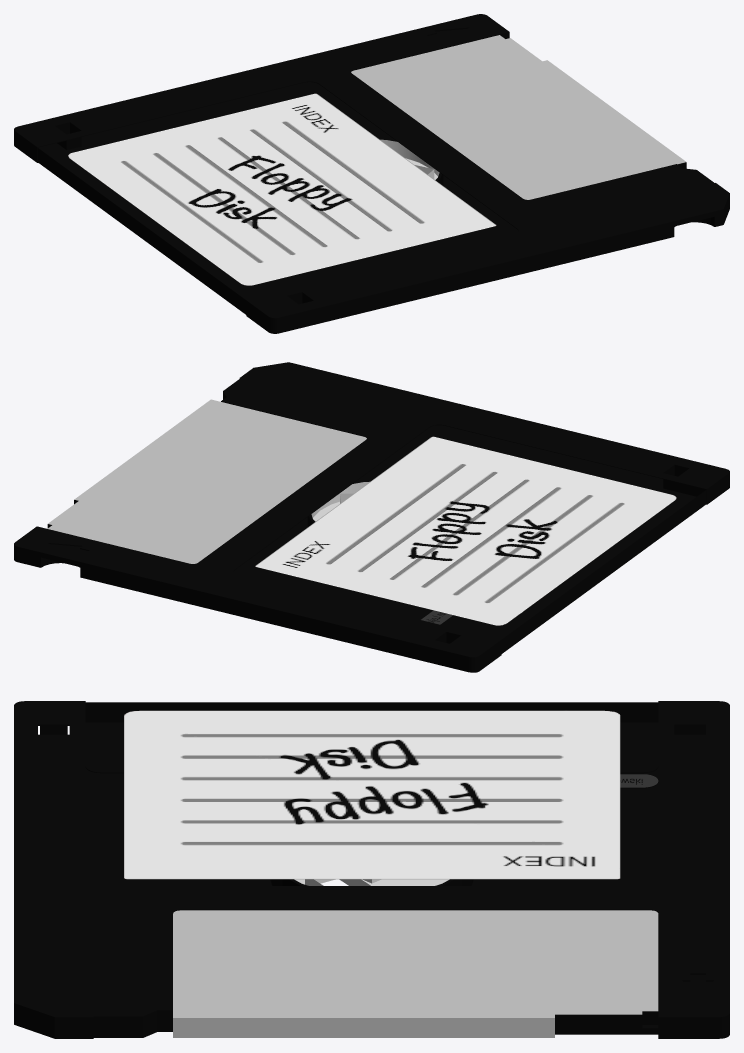
File: floppy disk.fbx
The picture shows the model from 3 angles, top to bottom: view 1: azimuth 30°, elevation 25°; view 2: azimuth 150°, elevation 25°; view 3: azimuth 270°, elevation 25°; orthographic projection. The views are drawn at different scales.
Visible parts, largest first — view 1: Floppy Disk; view 2: Floppy Disk; view 3: Floppy Disk.
Boxes of the visible parts, x1,y1,x2,y2 form: Floppy Disk: (14,14,729,333); Floppy Disk: (14,362,729,672); Floppy Disk: (14,701,729,1038).
Bounding box in the file's own units: 20.06 × 0.6401 × 19.2.
